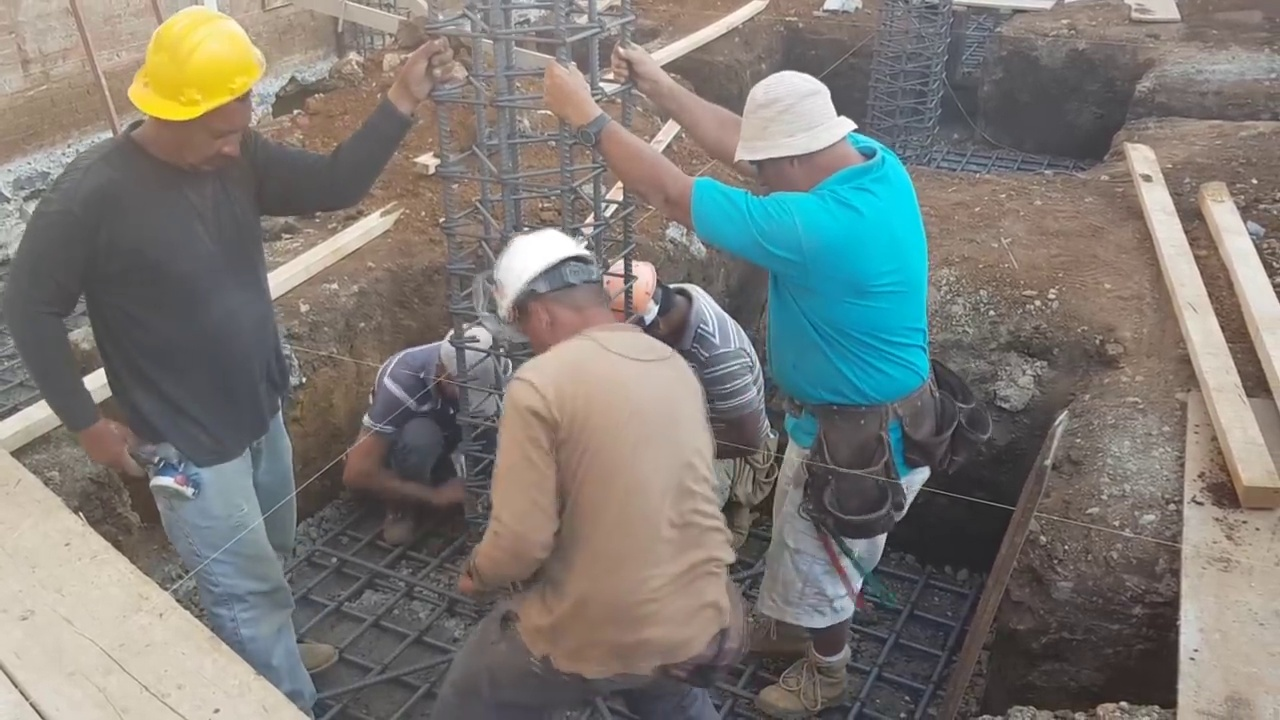helmet: (124, 15, 267, 129), (490, 228, 600, 332), (602, 258, 654, 332)
helmet-off: (725, 68, 868, 200), (435, 327, 514, 425)
helmet-on: (120, 7, 264, 172), (486, 228, 612, 353), (601, 257, 700, 349)
person: (13, 0, 462, 703), (636, 31, 960, 720), (443, 222, 747, 720), (611, 249, 772, 555), (348, 305, 512, 559)
